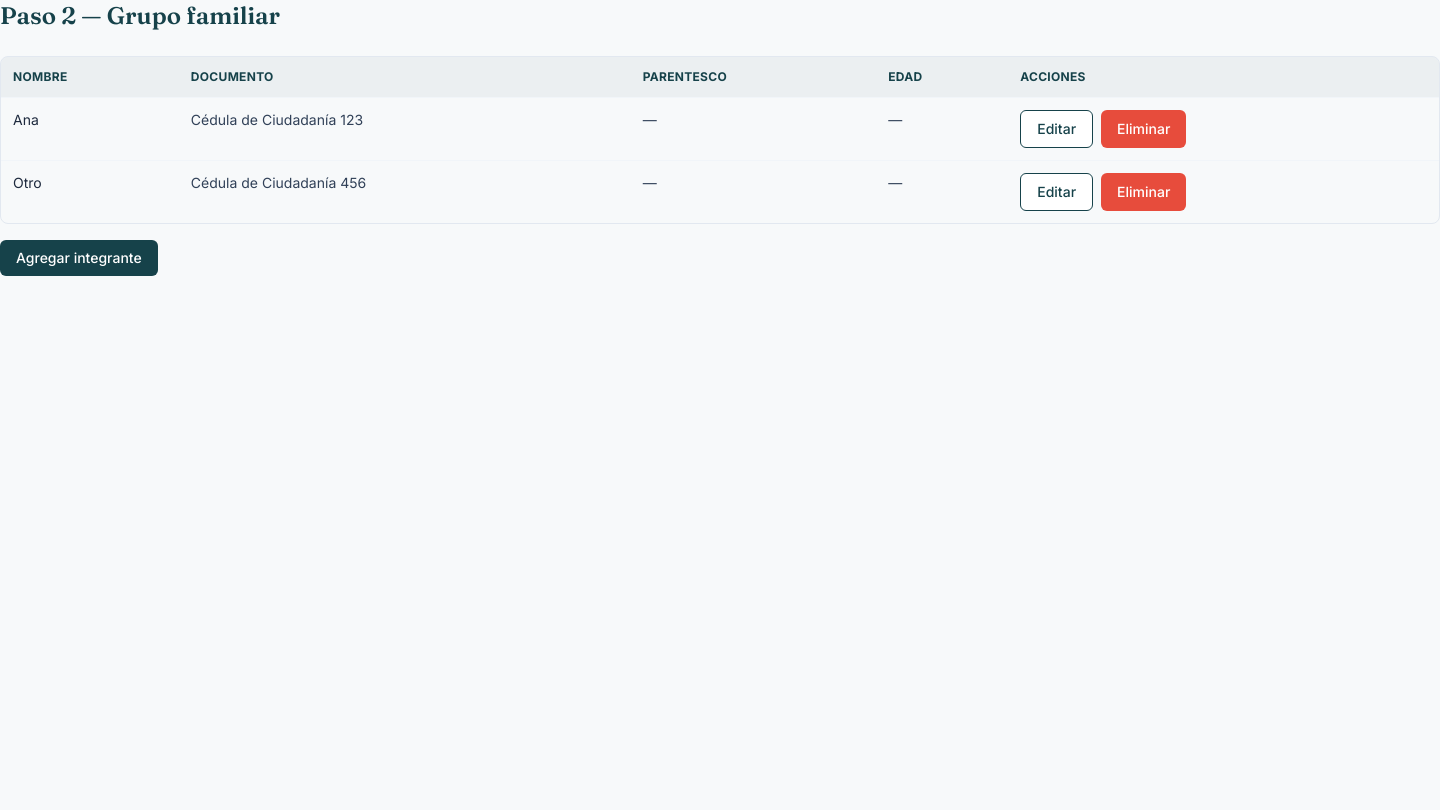
Test: Step2FamilyMembers › shows real non-zero counts in the cascade-delete confirmation and removes that data too
The width and height of the screenshot is (1440, 810).
Click the button "Eliminar" in the row of "Ana" at (1144, 129), box [1101, 110, 1186, 148]
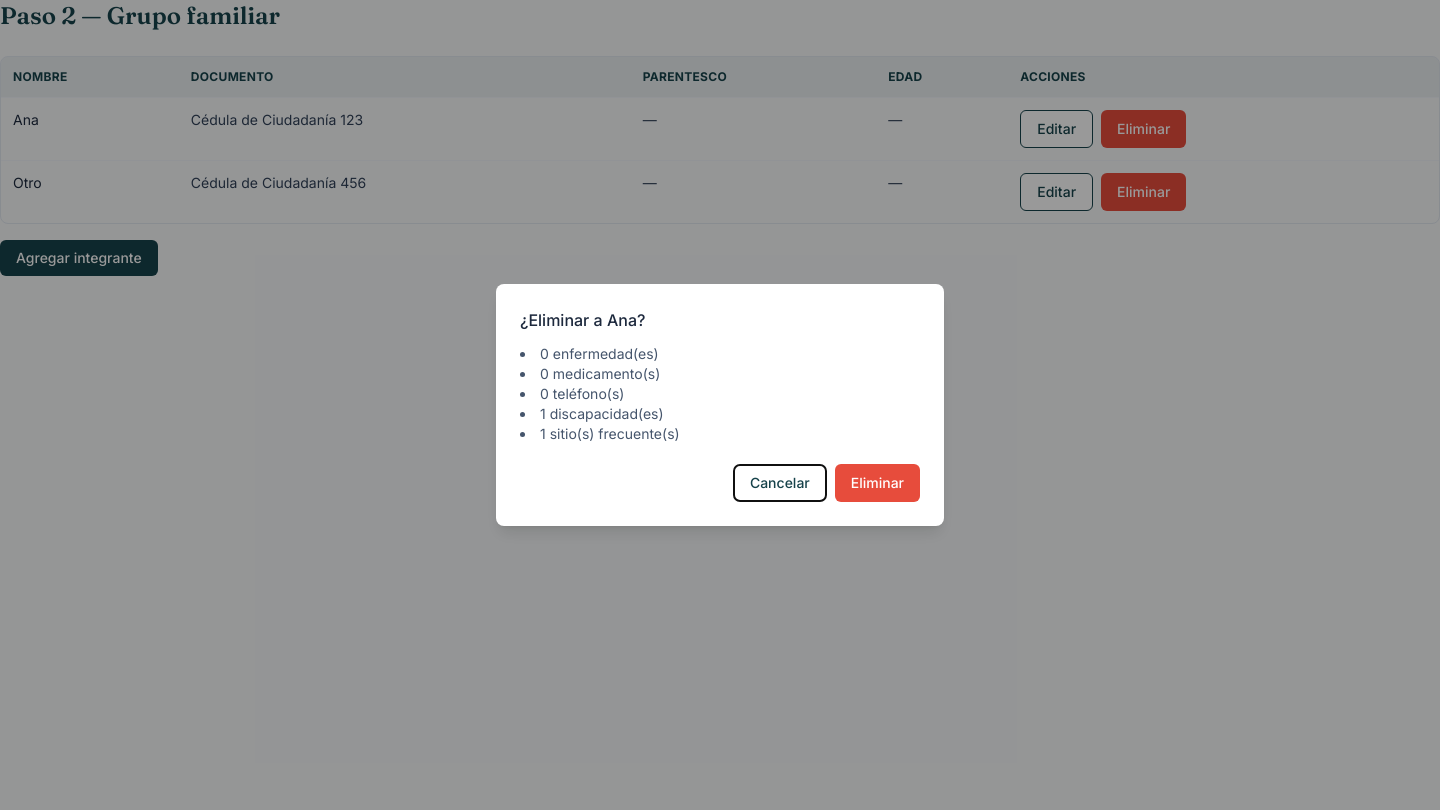
Check: the list item "1 sitio(s) frecuente(s)" is shown, box [540, 425, 680, 442]
Check: the list item "1 discapacidad(es)" is shown, box [540, 405, 664, 422]
Click the button "Eliminar" at (877, 483), box [835, 464, 920, 502]
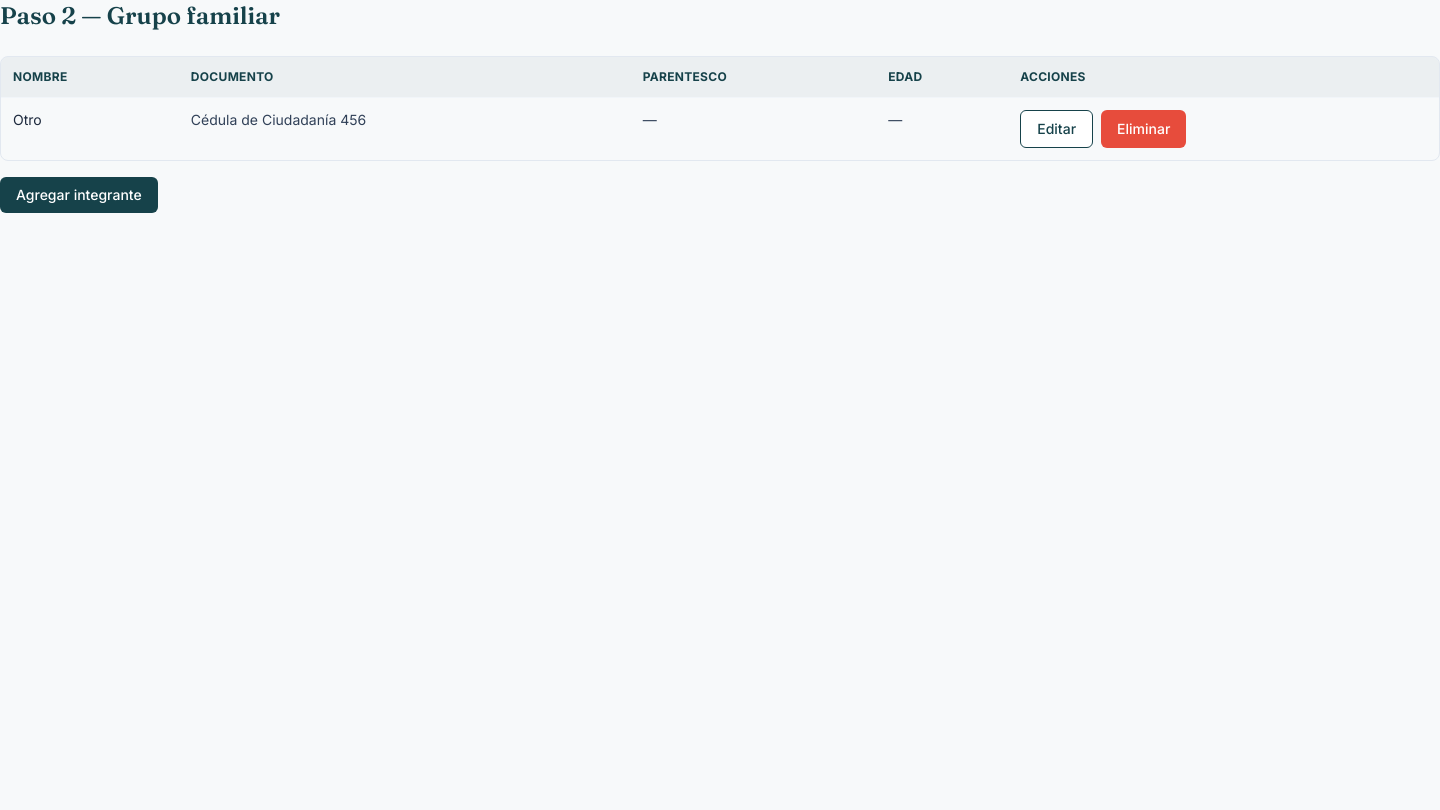
Check: the cell "Otro" is shown, box [1, 98, 179, 160]
Check: the cell "Ana" is gone
